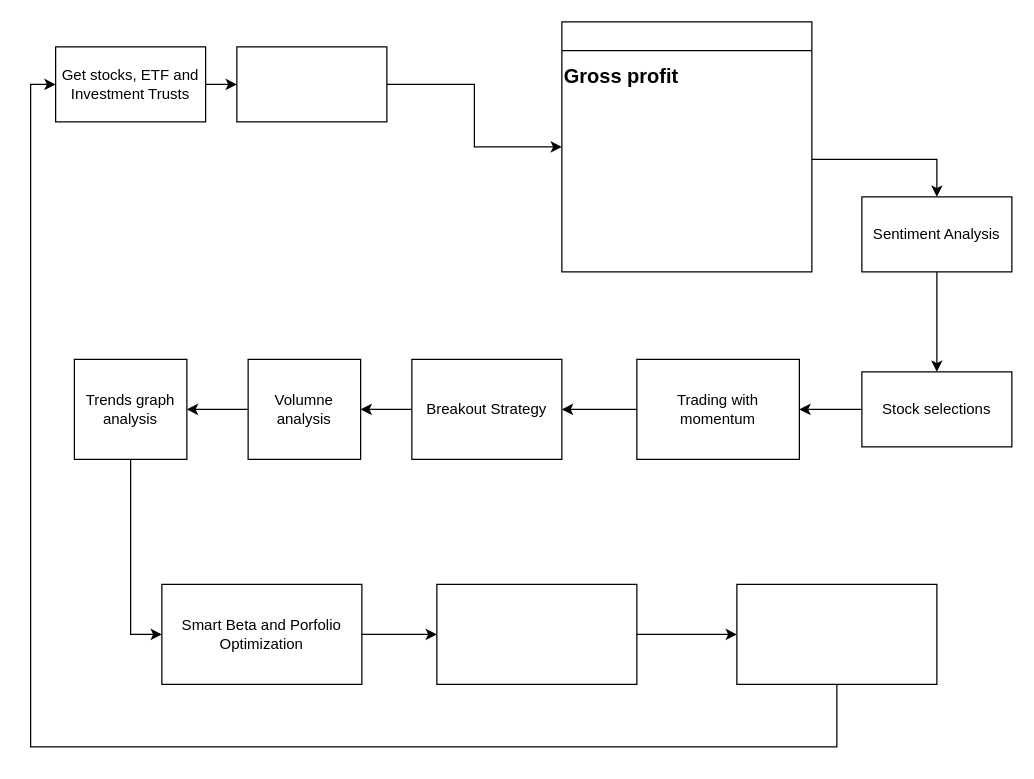
The diagram is 1034 pixels wide and 779 high, and some of its shapes have lost their labels. The box of each missing label's shape, as (x1, y1, x2, y2) in pixels:
Backtesting: (736, 583, 937, 684)
Combining Signals for Enhanced Alpha: (436, 583, 637, 684)
Excel Companies details: (561, 21, 812, 272)
Run NN for short positions: (236, 46, 387, 122)
